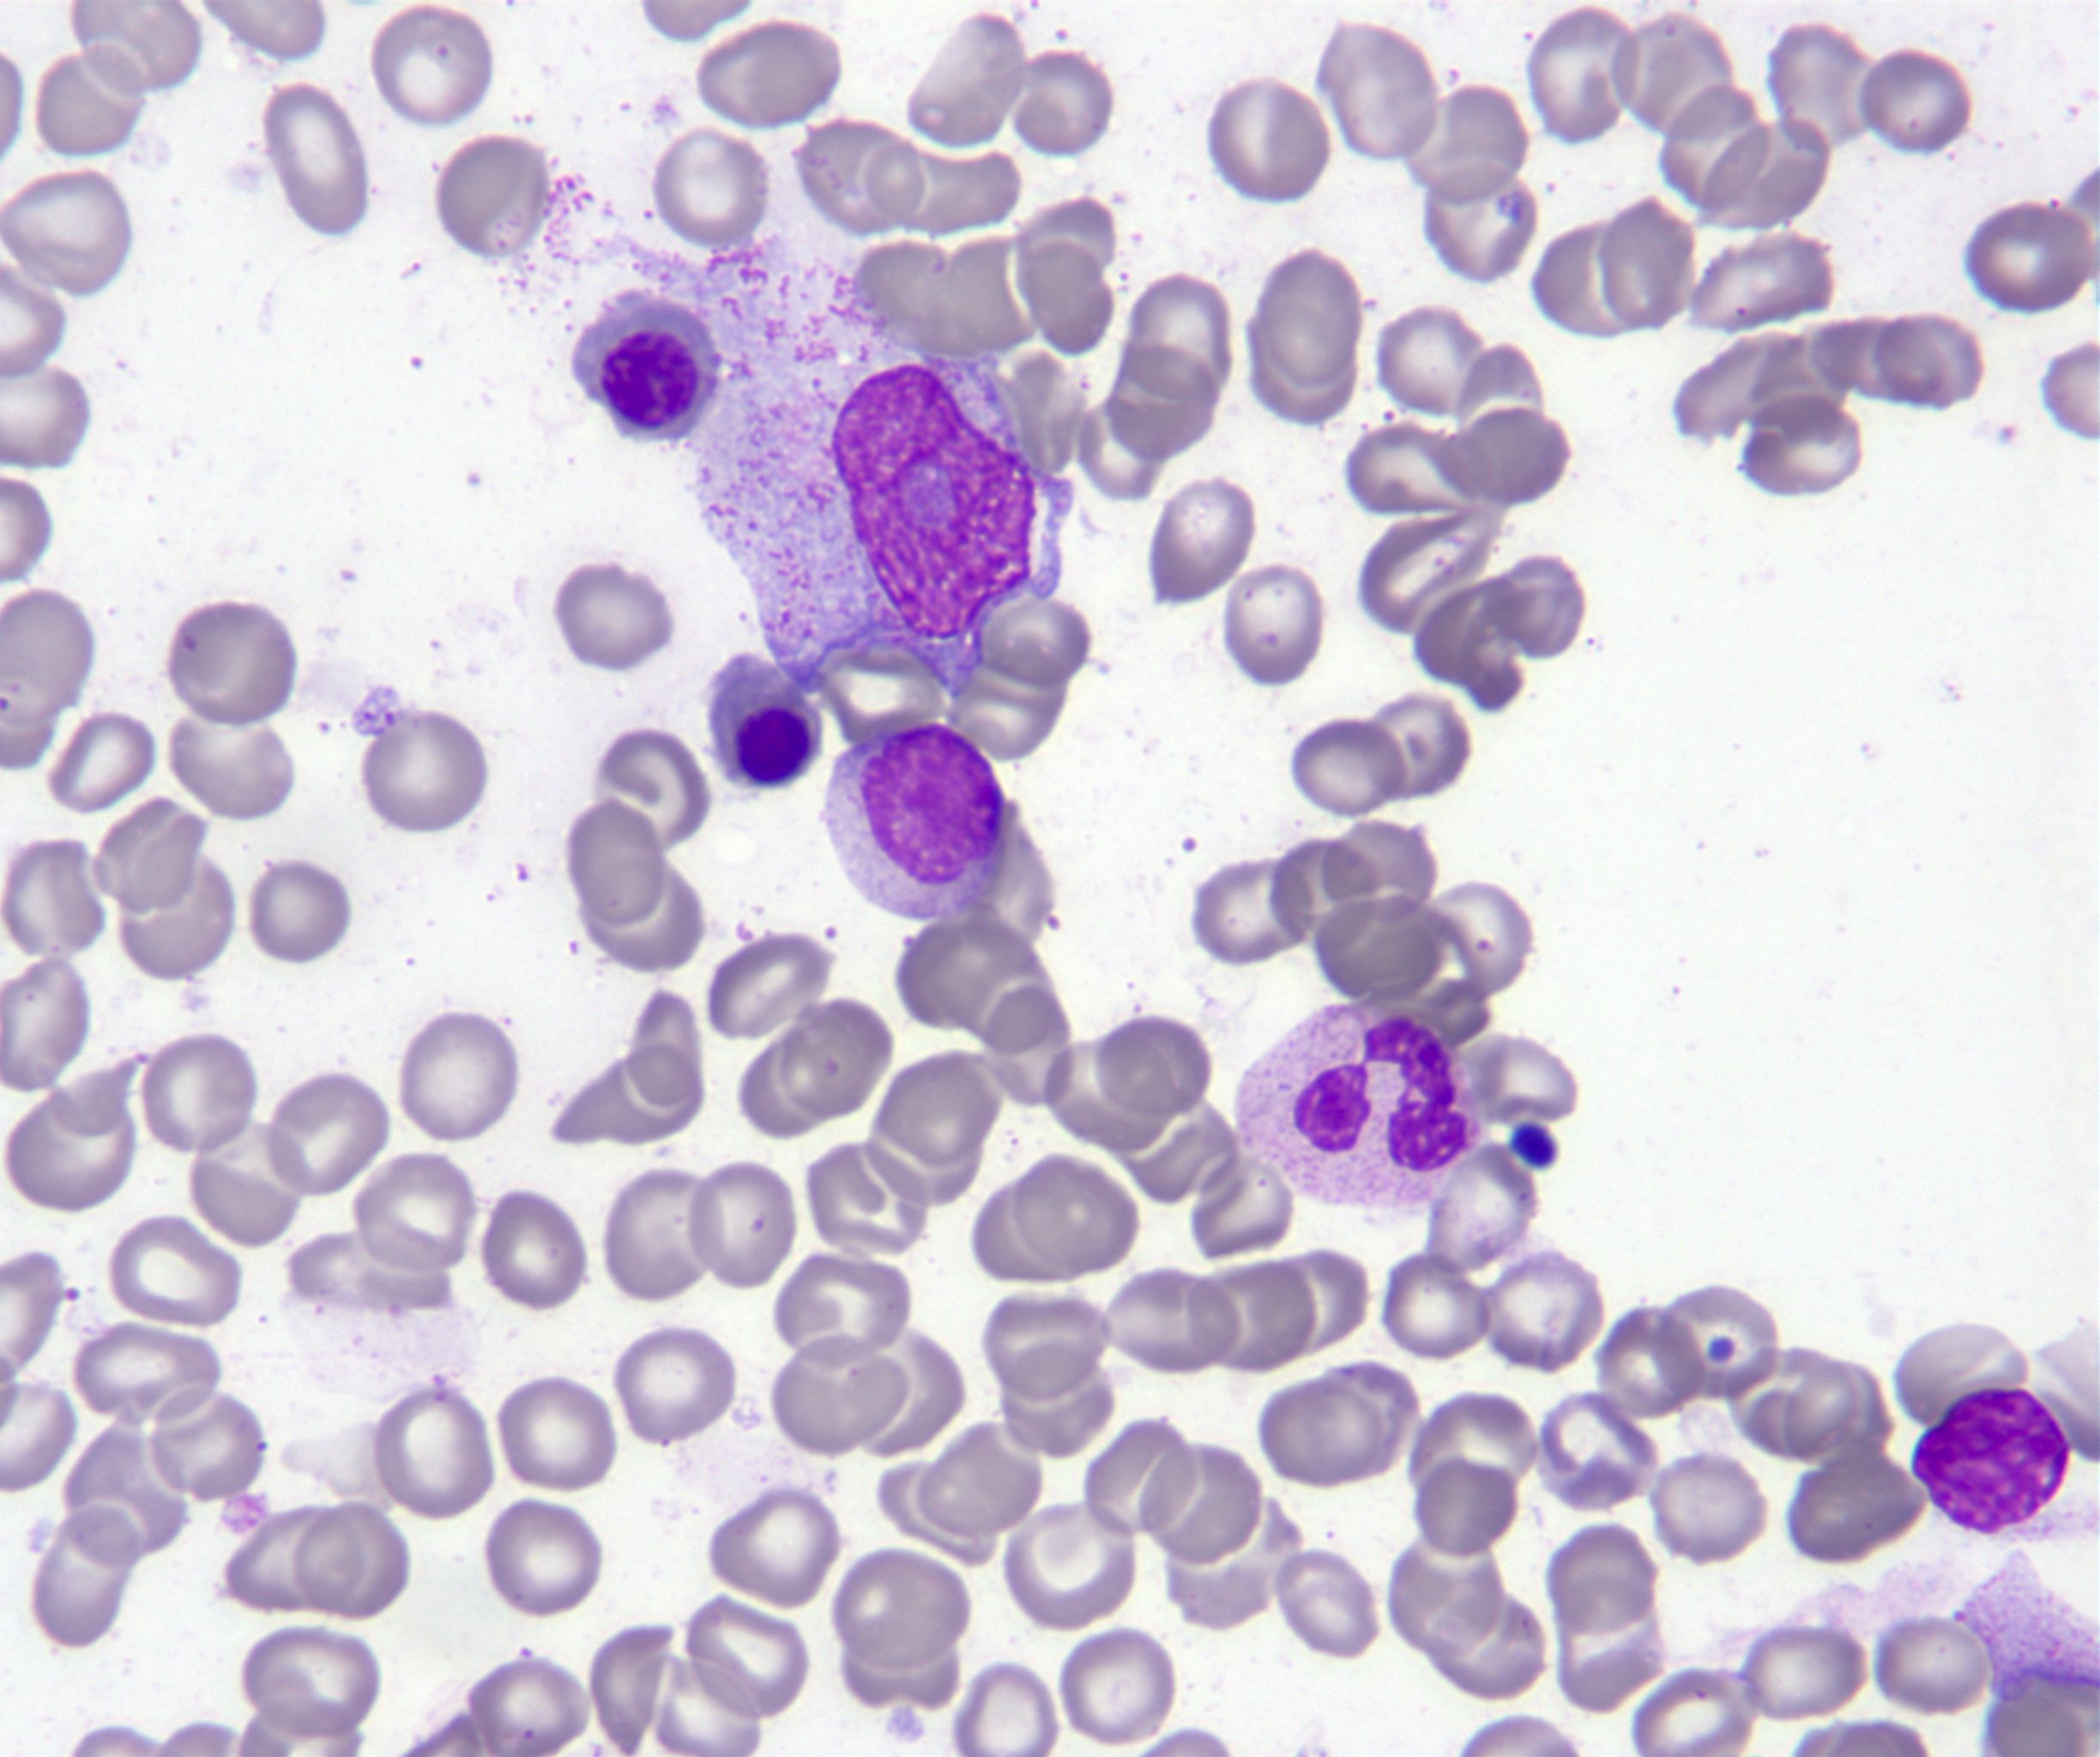2: (696, 236, 1071, 698)
23: (572, 291, 717, 443)
24: (708, 656, 823, 792)
3: (825, 724, 1005, 921)
6: (1235, 1003, 1488, 1200)
x: (1913, 1389, 2069, 1534)
